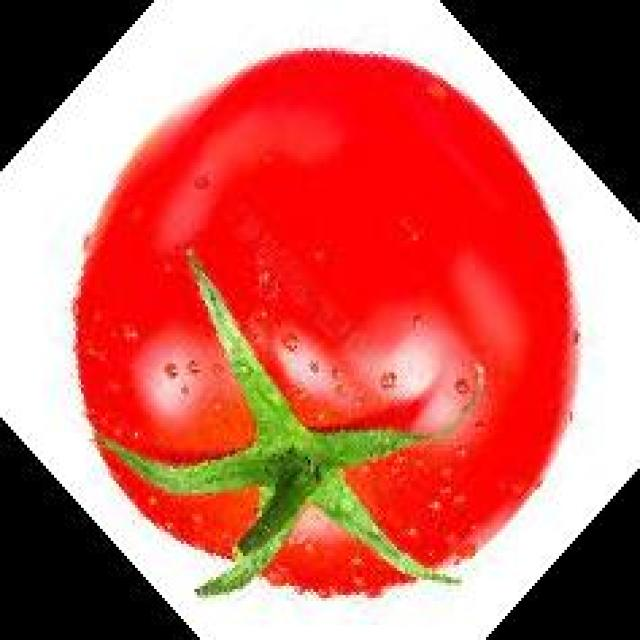Tomato: (71, 43, 588, 607)
